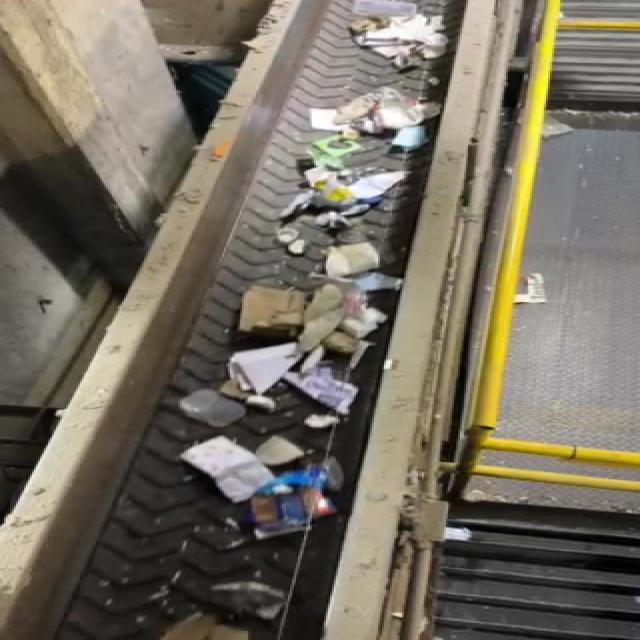paper: (162, 435, 282, 498)
pet: (246, 468, 351, 546)
pp: (174, 386, 260, 434)
